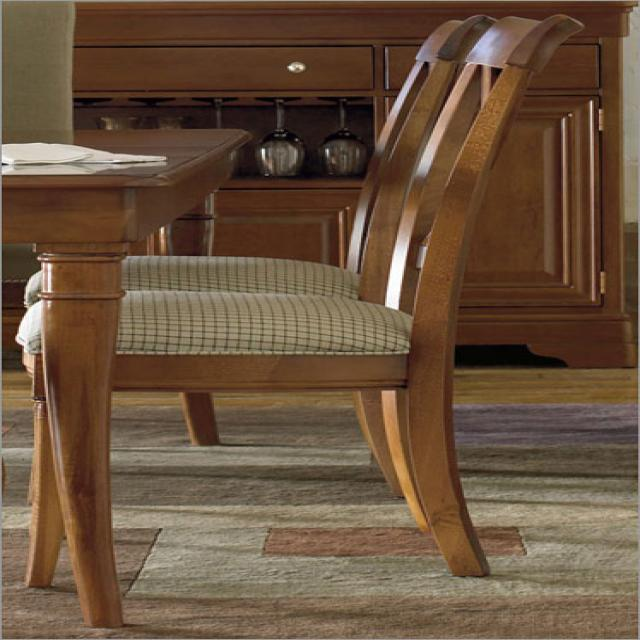chair: (21, 12, 582, 593)
